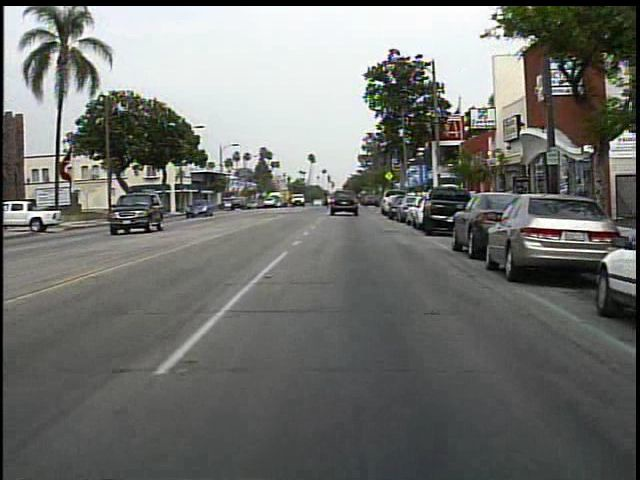person: (323, 189, 333, 216)
